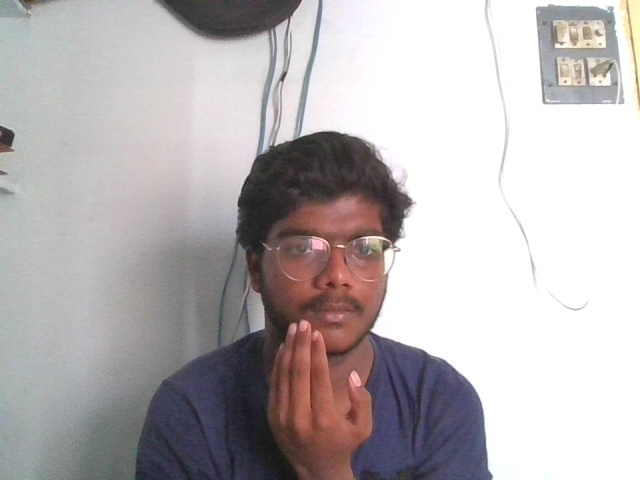Thanks: (266, 320, 374, 465)
